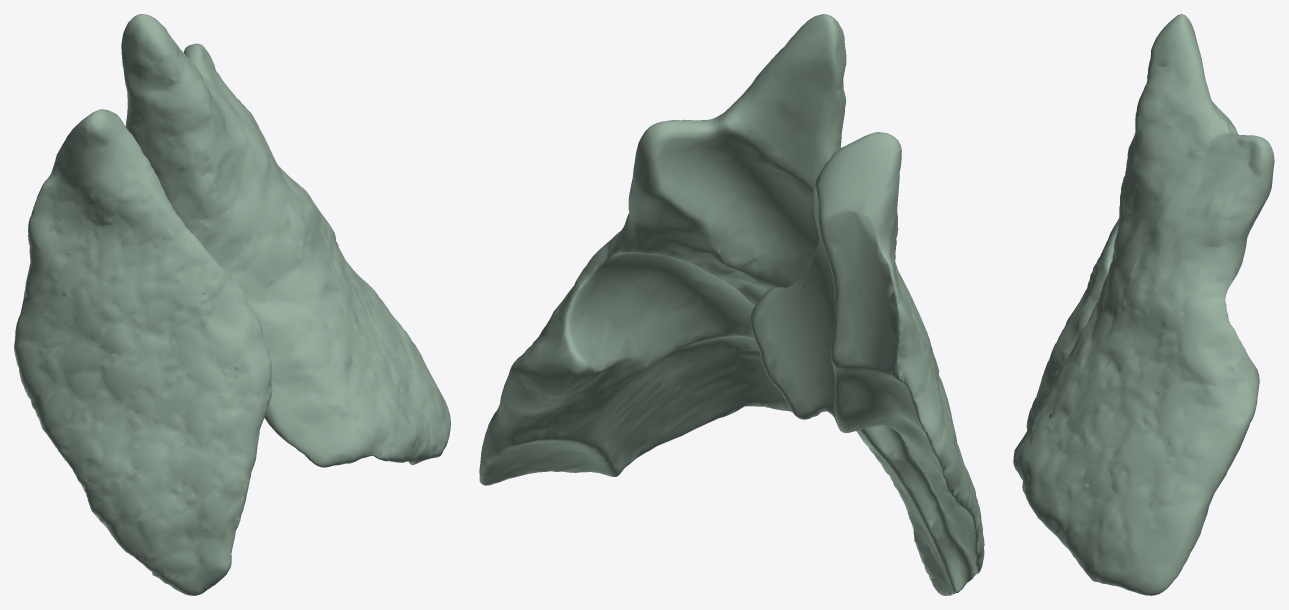
Rendered from thymus.glb.
3 renders of one model, left to right at view 1: azimuth 30°, elevation 25°; view 2: azimuth 150°, elevation 25°; view 3: azimuth 270°, elevation 25°, orthographic. The views are drawn at different scales.
Visible parts, largest first — view 1: world; view 2: world; view 3: world.
Boxes of the visible parts, bbox=[...] form: world: bbox=[14, 14, 450, 595]; world: bbox=[479, 14, 984, 595]; world: bbox=[1013, 14, 1274, 595].
Bounding box in the file's own units: 1.62 × 2 × 0.9486.
